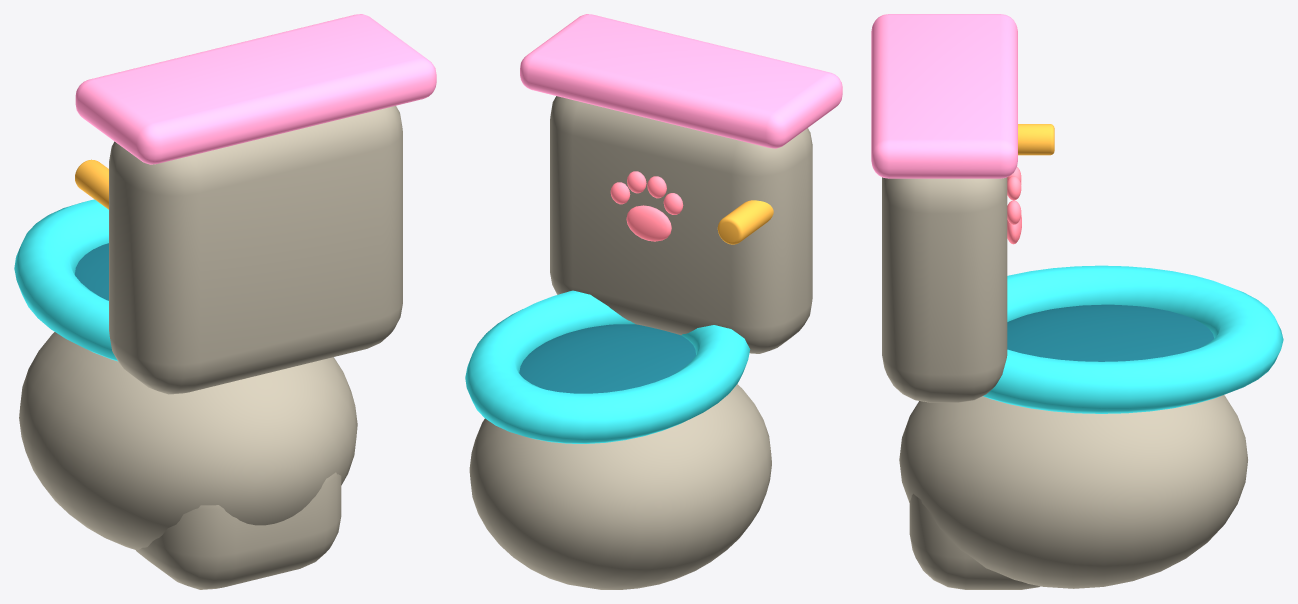
File: BathroomToilet.fbx
The picture shows the model from 3 angles, left to right: view 1: azimuth 30°, elevation 25°; view 2: azimuth 150°, elevation 25°; view 3: azimuth 270°, elevation 25°; orthographic projection. The views are drawn at different scales.
Parts seen in each view (by area): view 1: BathroomToilet; view 2: BathroomToilet; view 3: BathroomToilet.
Part boxes in pixels (x1,y1,x2,y2): BathroomToilet: (14, 14, 436, 589); BathroomToilet: (465, 14, 842, 589); BathroomToilet: (871, 14, 1283, 589).
Bounding box in the file's own units: 0.94 × 1.56 × 1.18.
